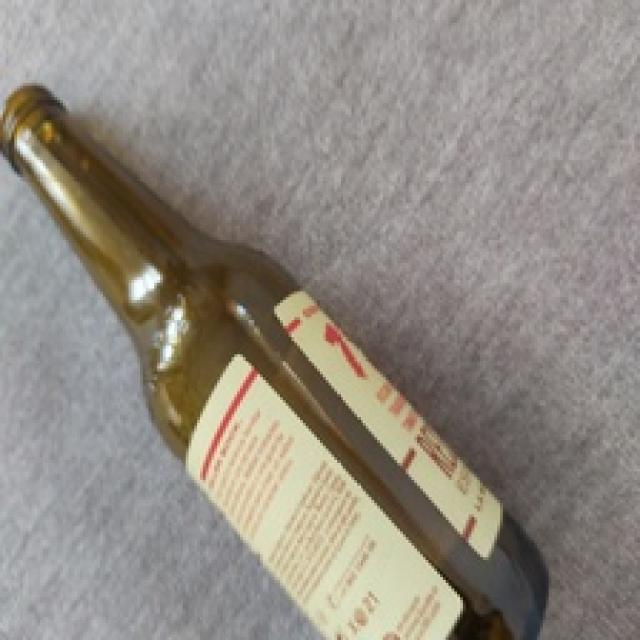garbage: (0, 91, 571, 640)
